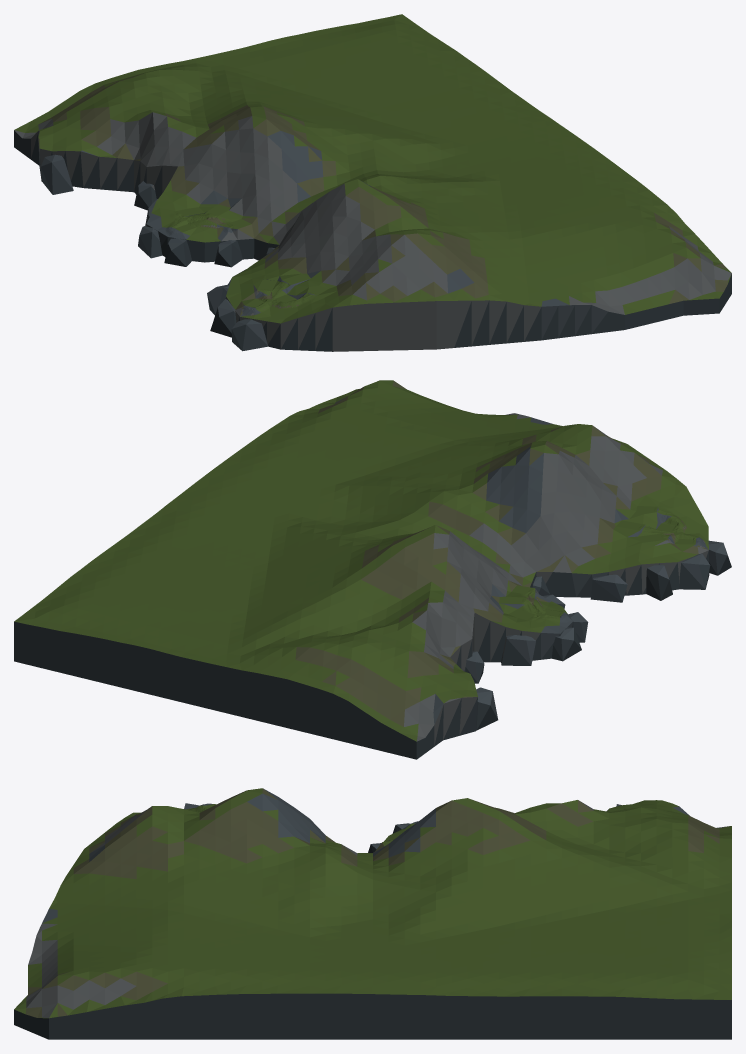
File: mainland_headland.glb
3 views of the same model, one above another, from view 1: azimuth 30°, elevation 25°; view 2: azimuth 150°, elevation 25°; view 3: azimuth 270°, elevation 25° (orthographic). The views are drawn at different scales.
Parts seen in each view (by area): view 1: Mainland headland continuous bedrock and grass terraces; view 2: Mainland headland continuous bedrock and grass terraces; view 3: Mainland headland continuous bedrock and grass terraces.
Boxes of the visible parts, left/top/right/bottom form: Mainland headland continuous bedrock and grass terraces: left=14, top=14, right=731, bottom=351; Mainland headland continuous bedrock and grass terraces: left=14, top=380, right=731, bottom=759; Mainland headland continuous bedrock and grass terraces: left=14, top=788, right=731, bottom=1039.
Size of the model in its own units: 293 by 68.9 by 410.
